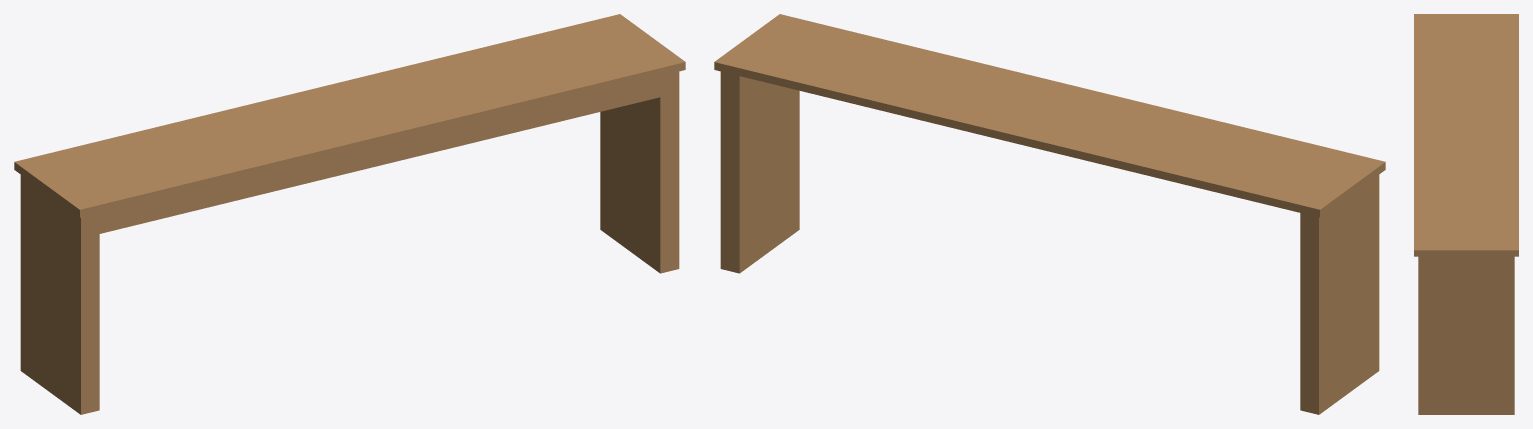
File: windowBar-3.glb
3 renders of one model, left to right at view 1: azimuth 30°, elevation 25°; view 2: azimuth 150°, elevation 25°; view 3: azimuth 270°, elevation 25°, orthographic. The views are drawn at different scales.
Visible parts, largest first — view 1: windowBar:3:editor; view 2: windowBar:3:editor; view 3: windowBar:3:editor.
Part boxes in pixels (<box>): windowBar:3:editor: <box>14,14,685,414</box>; windowBar:3:editor: <box>714,14,1385,414</box>; windowBar:3:editor: <box>1414,14,1518,414</box>.
Bounding box in the file's own units: 3.2 × 1.05 × 0.6.
